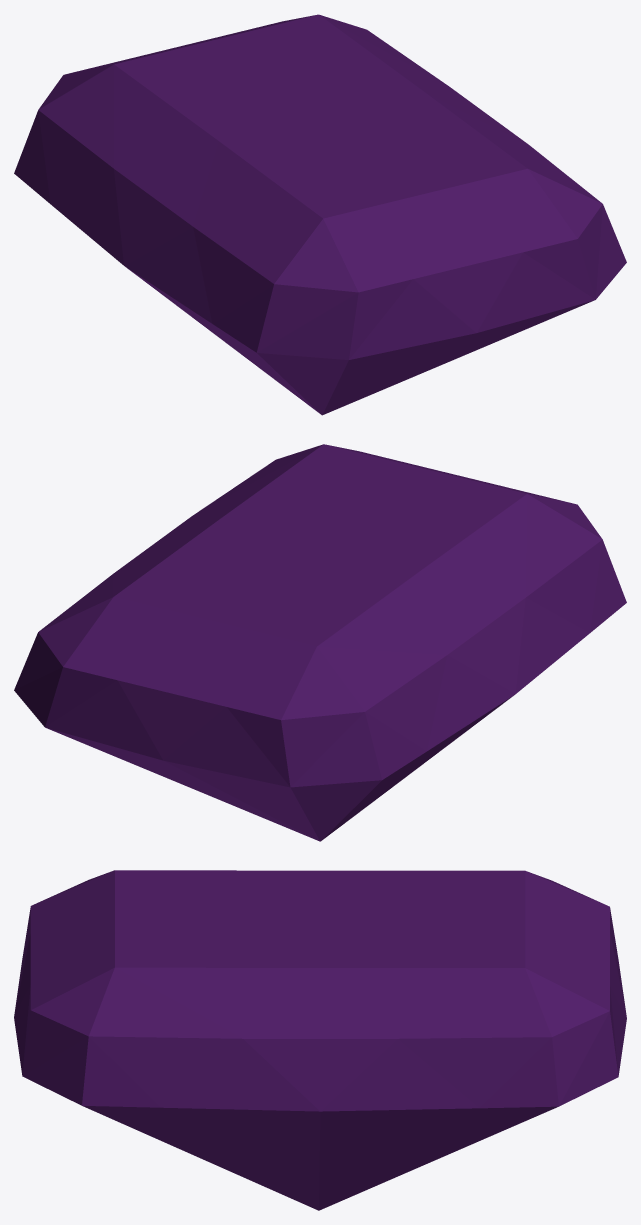
Rendered from GemPurple.obj.
3 renders of one model, top to bottom at view 1: azimuth 30°, elevation 25°; view 2: azimuth 150°, elevation 25°; view 3: azimuth 270°, elevation 25°, orthographic. The views are drawn at different scales.
Parts seen in each view (by area): view 1: GemPurple; view 2: GemPurple; view 3: GemPurple.
Boxes of the visible parts, left/top/right/bottom form: GemPurple: left=14, top=14, right=626, bottom=415; GemPurple: left=14, top=444, right=626, bottom=841; GemPurple: left=14, top=870, right=626, bottom=1210.
Bounding box in the file's own units: 70.77 × 51.43 × 98.06.
1 material, 1 textured.
